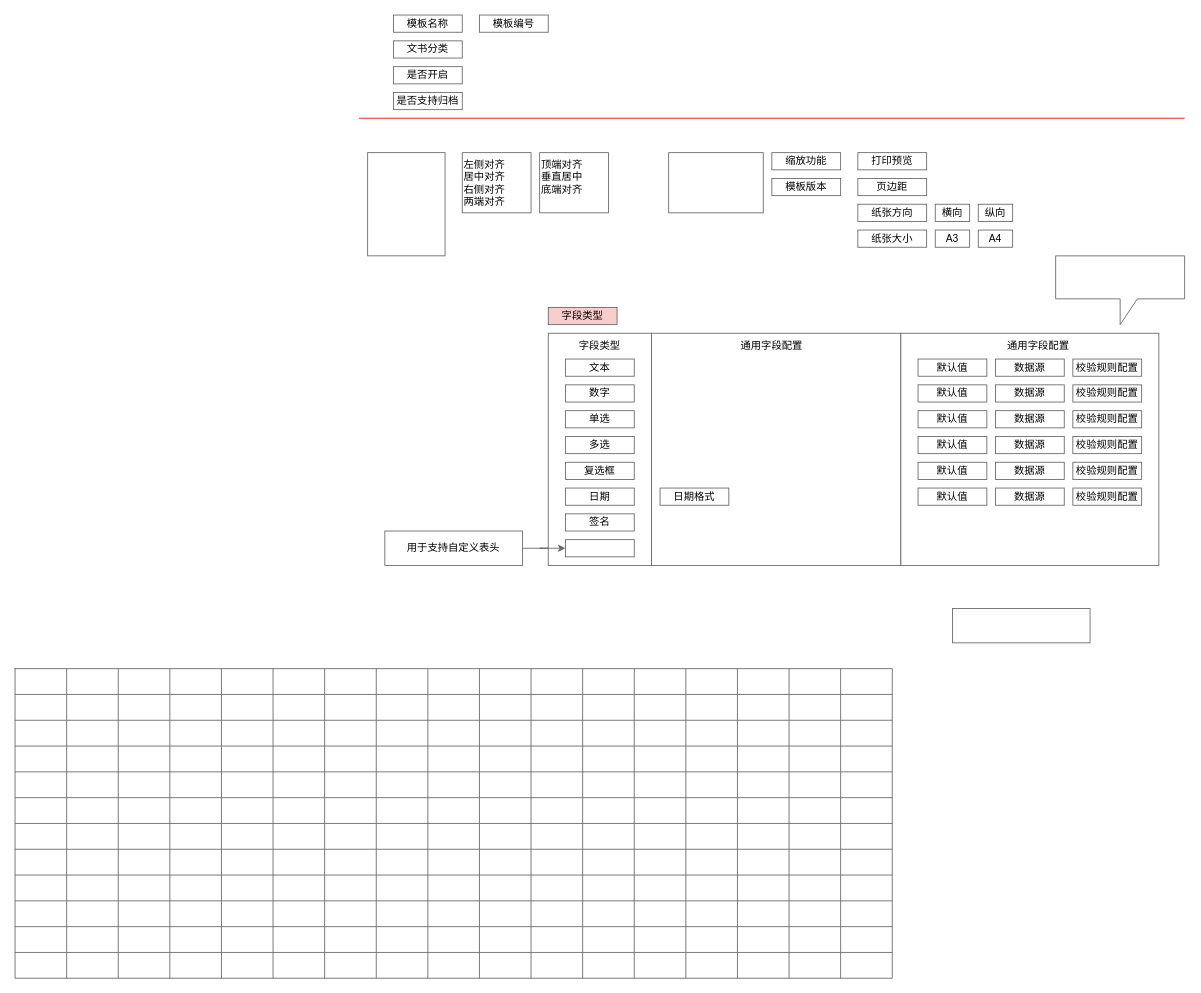
This 1201x993 diagram has some shape labels left out. The centre of each missing label's shape, as x and y in pixels:
"互联互通如何支持？ 出入量统计支持？" belongs at pixel 1021 625.
"可参考飞书多维表格设计" belongs at pixel 1120 290.
"合并单元格 换行" belongs at pixel 715 182.
"字体 字号 字体颜色 粗体 斜体 下划线 删除线" belongs at pixel 406 204.
"自定义" belongs at pixel 599 548.
